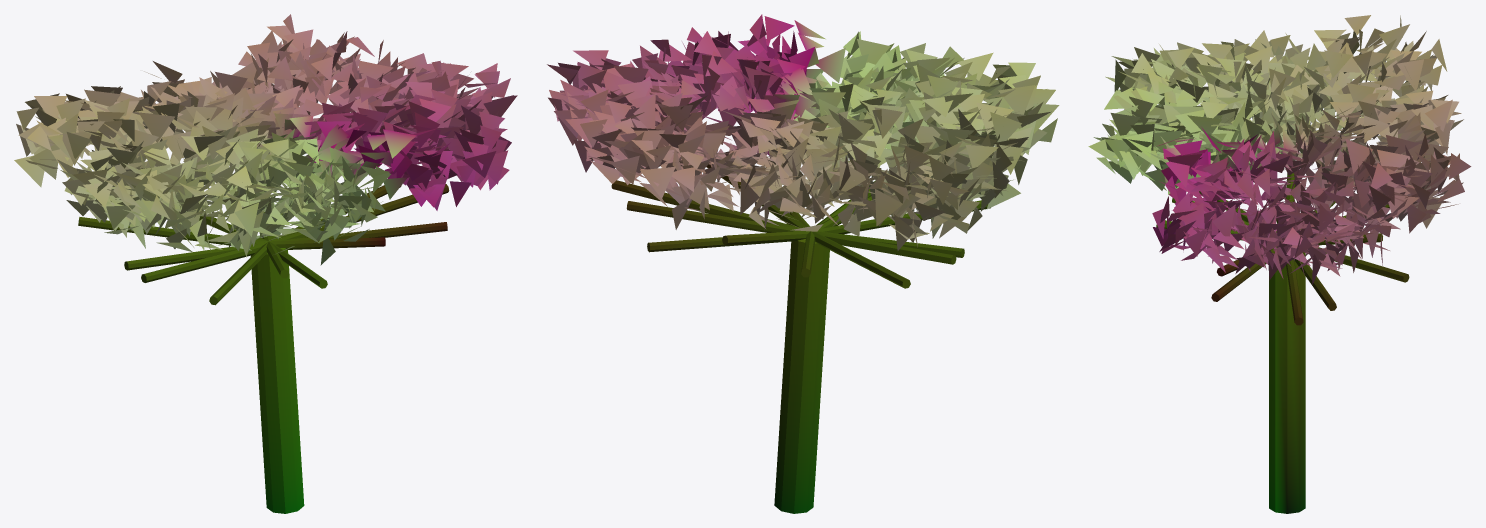
The model's file is mature_savanna_03.glb.
The picture shows the model from 3 angles, left to right: view 1: azimuth 30°, elevation 25°; view 2: azimuth 150°, elevation 25°; view 3: azimuth 270°, elevation 25°; orthographic projection. The views are drawn at different scales.
Visible parts, largest first — view 1: mature_savanna_03; view 2: mature_savanna_03; view 3: mature_savanna_03.
Boxes of the visible parts, box(x1,y1,x2,y2) form: mature_savanna_03: box(14, 14, 517, 513); mature_savanna_03: box(547, 14, 1059, 513); mature_savanna_03: box(1088, 15, 1471, 513).
Bounding box in the file's own units: 14.12 × 12.35 × 10.79.
